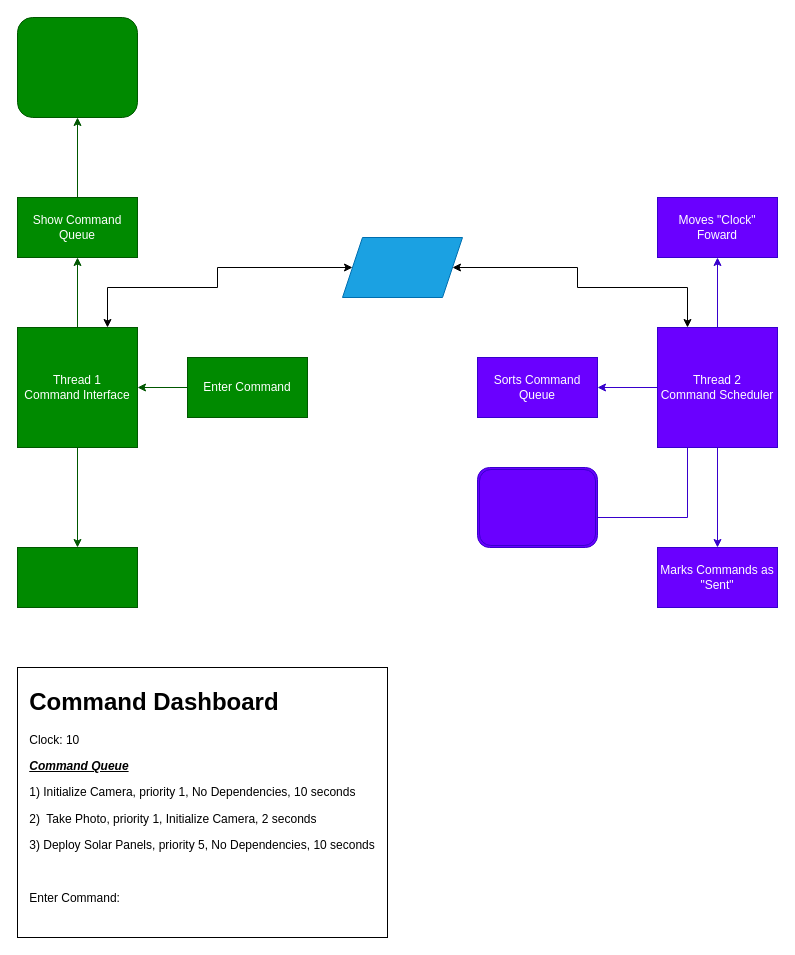
The diagram is 795 pixels wide and 955 high, and some of its shapes have lost their labels. The centre of each missing label's shape, as x and y in pixels:
Command Log: [537,507]
Shared Queue & Clock: [402,267]
Show "Clock": [77,577]
Shows: - Priority -Dependency - Queue Index - Time Cost: [77,67]
